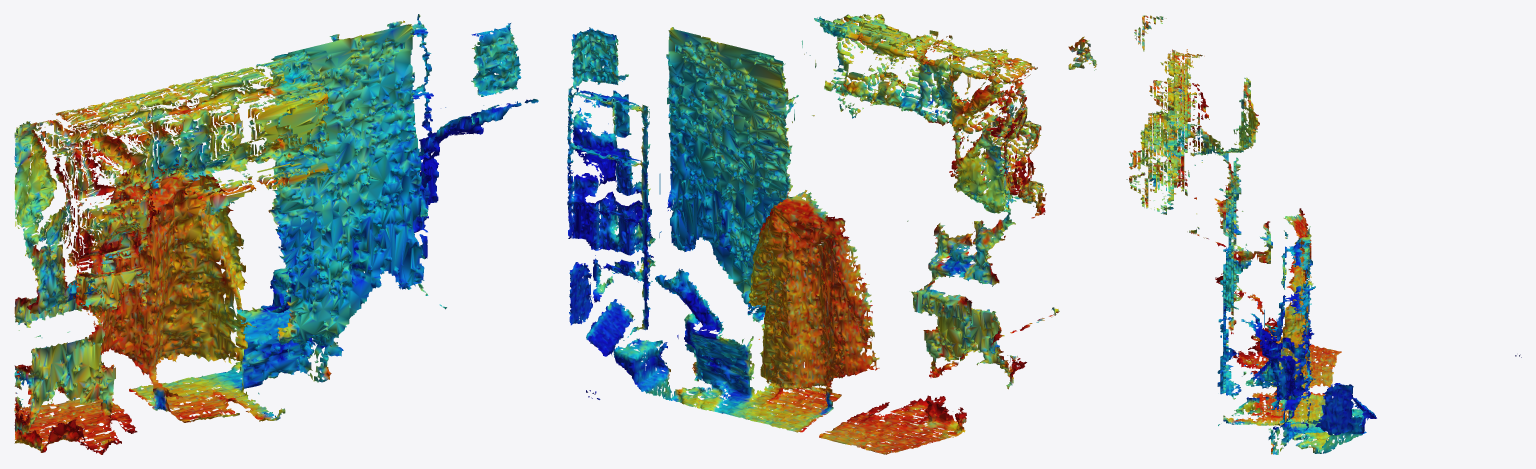
The model's file is mesh_iter_0001.obj.
3 views of the same model, side by side, from view 1: azimuth 30°, elevation 25°; view 2: azimuth 150°, elevation 25°; view 3: azimuth 270°, elevation 25° (orthographic). The views are drawn at different scales.
Size of the model in its own units: 3.03 by 2.15 by 2.48.
